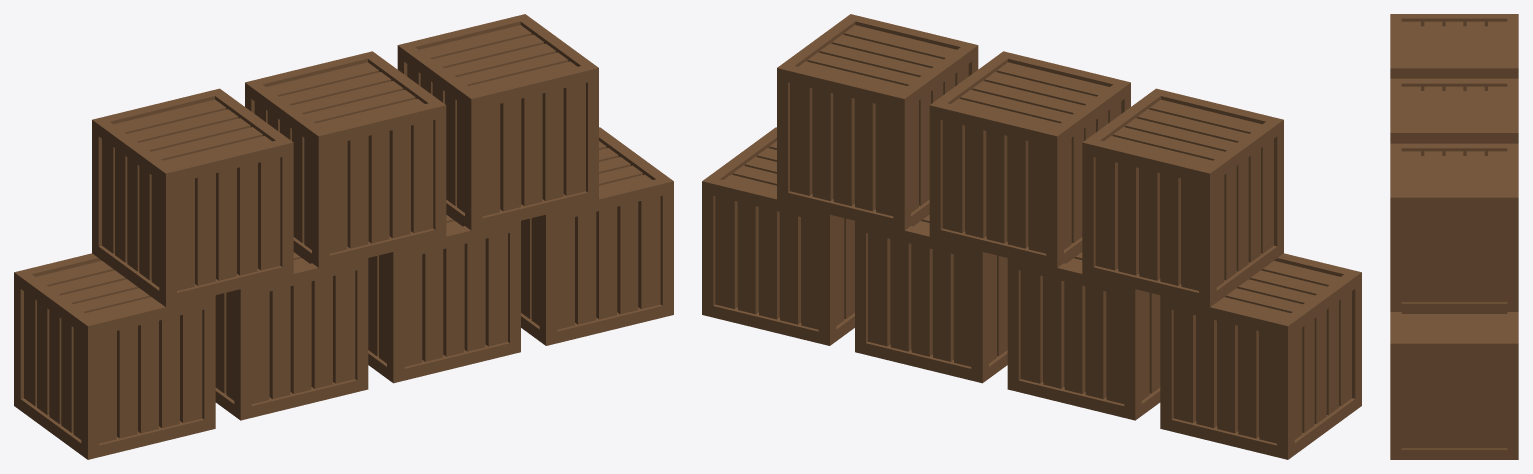
File: 06 Cargo_Woodbox_2.FBX
3 views of the same model, side by side, from view 1: azimuth 30°, elevation 25°; view 2: azimuth 150°, elevation 25°; view 3: azimuth 270°, elevation 25° (orthographic). The views are drawn at different scales.
Parts seen in each view (by area): view 1: Box022; view 2: Box022; view 3: Box022.
Part boxes in pixels (<box>): Box022: <box>14,14,673,459</box>; Box022: <box>702,14,1361,459</box>; Box022: <box>1390,14,1518,459</box>.
Bounding box in the file's own units: 3670 × 1599 × 800.
